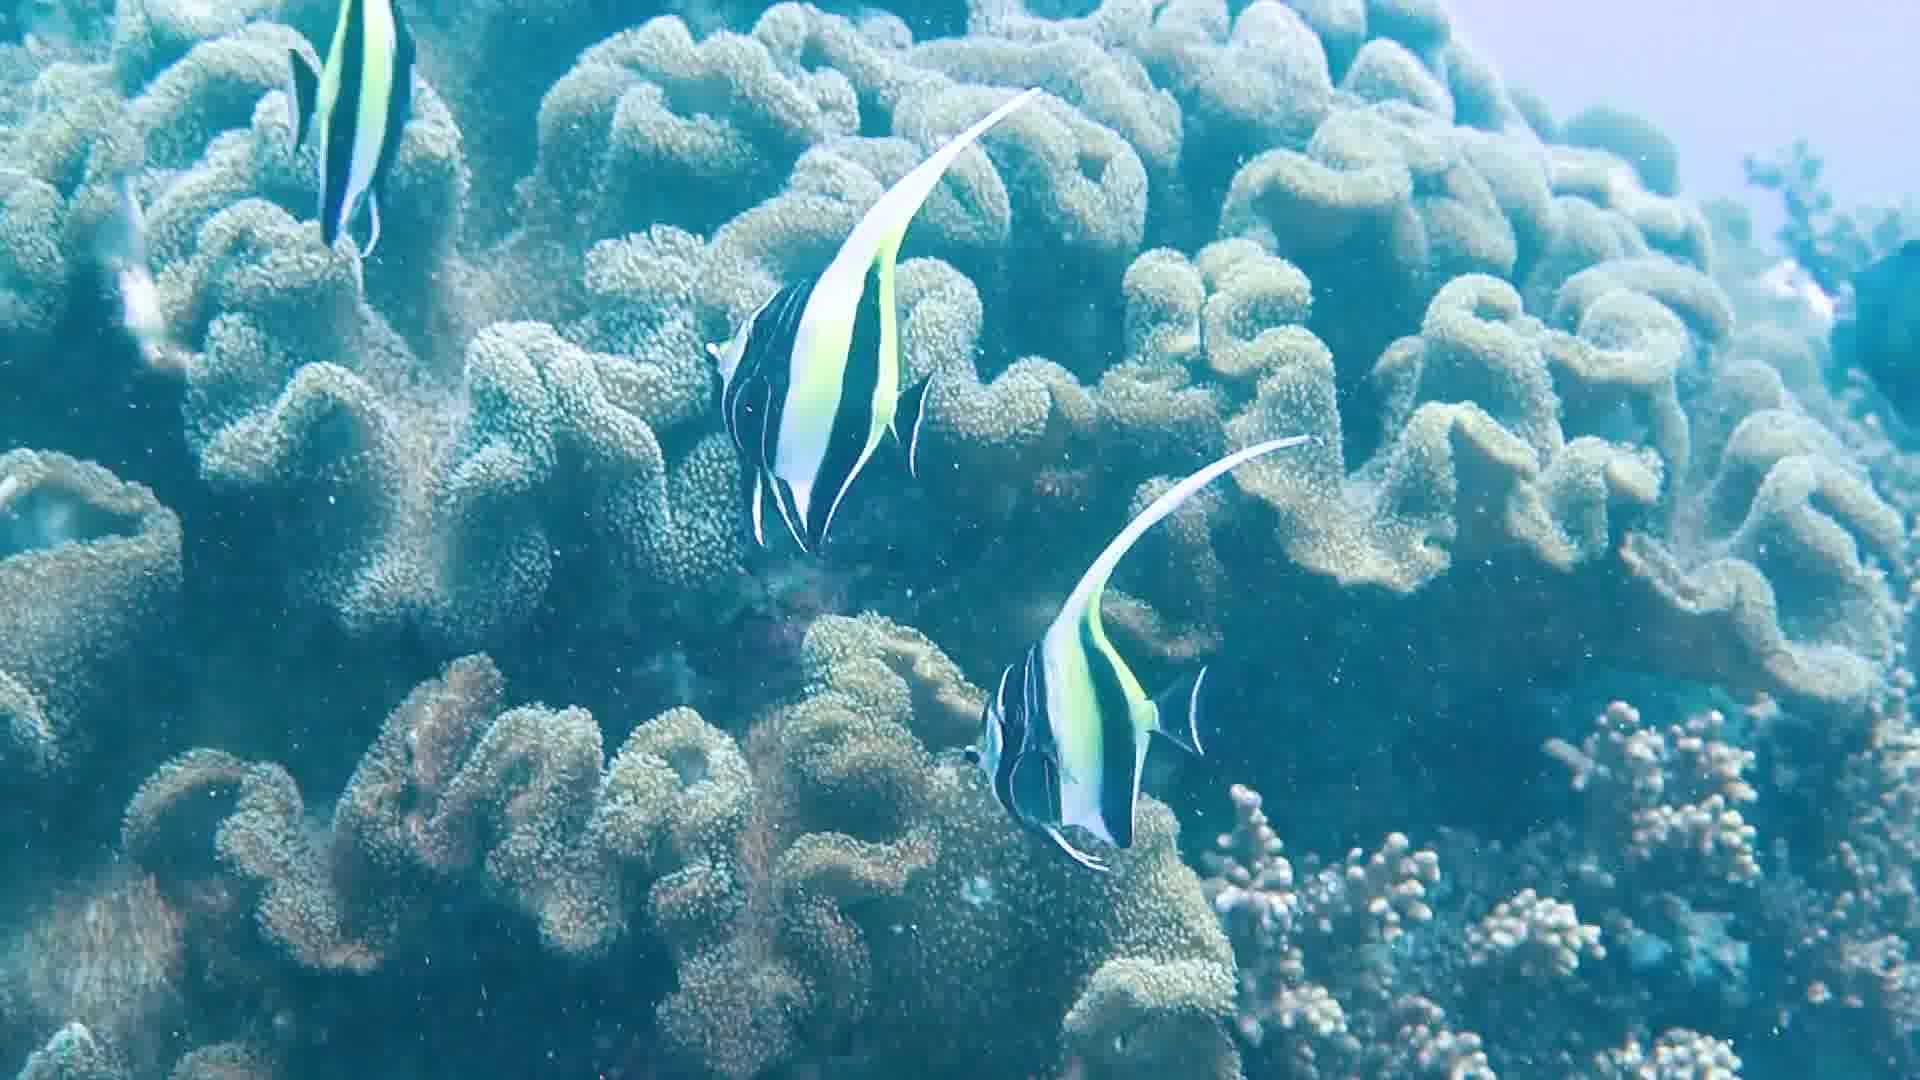Zanclus cornutus: (684, 212, 935, 542), (963, 549, 1212, 878), (239, 1, 477, 266)
